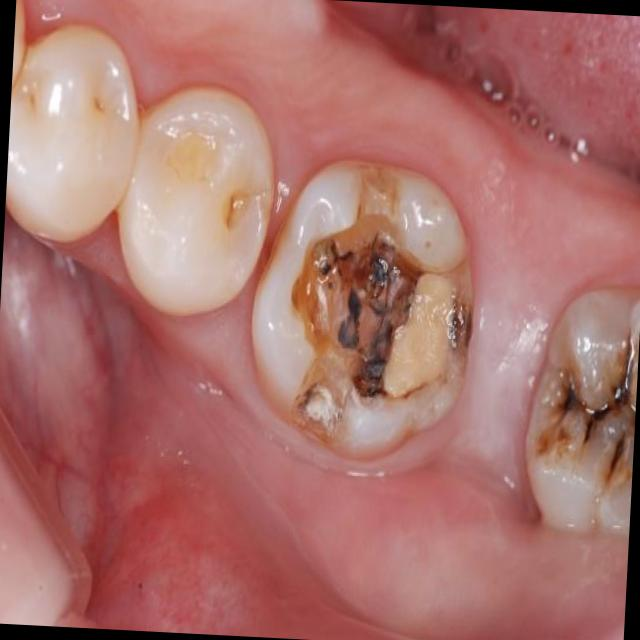Caries: (560, 330, 636, 440), (339, 290, 362, 350), (319, 240, 352, 277), (609, 435, 625, 476), (370, 252, 388, 288), (367, 362, 386, 378)
Cavity: (289, 162, 472, 451)
Tooth: (249, 158, 471, 459), (119, 89, 274, 316), (523, 288, 640, 540), (6, 26, 139, 244)
